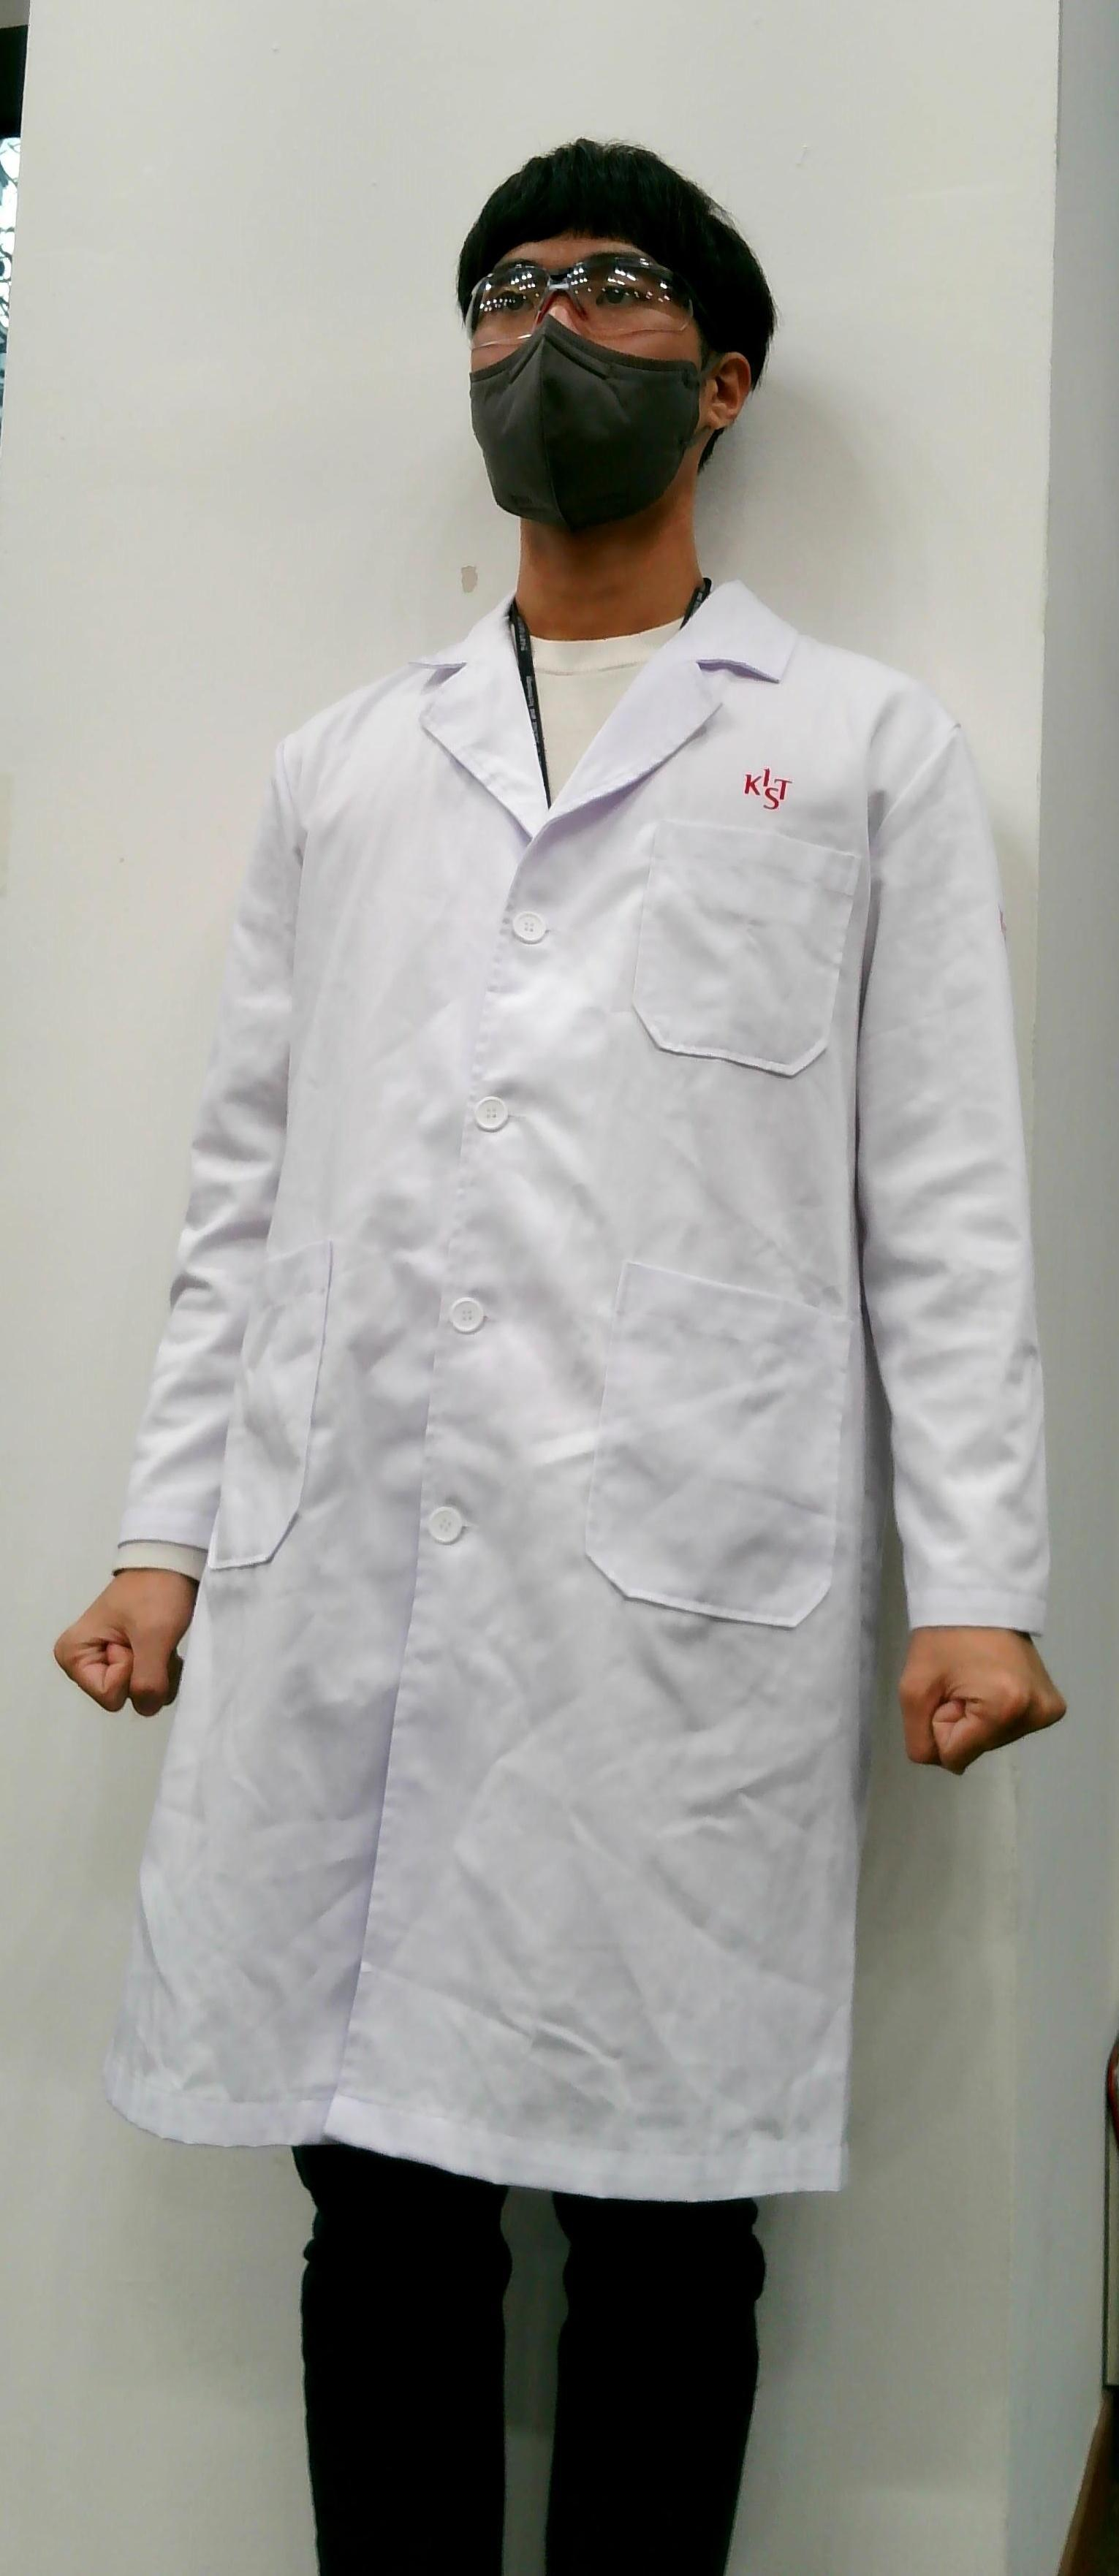lab_coat: (181, 667, 907, 2183)
